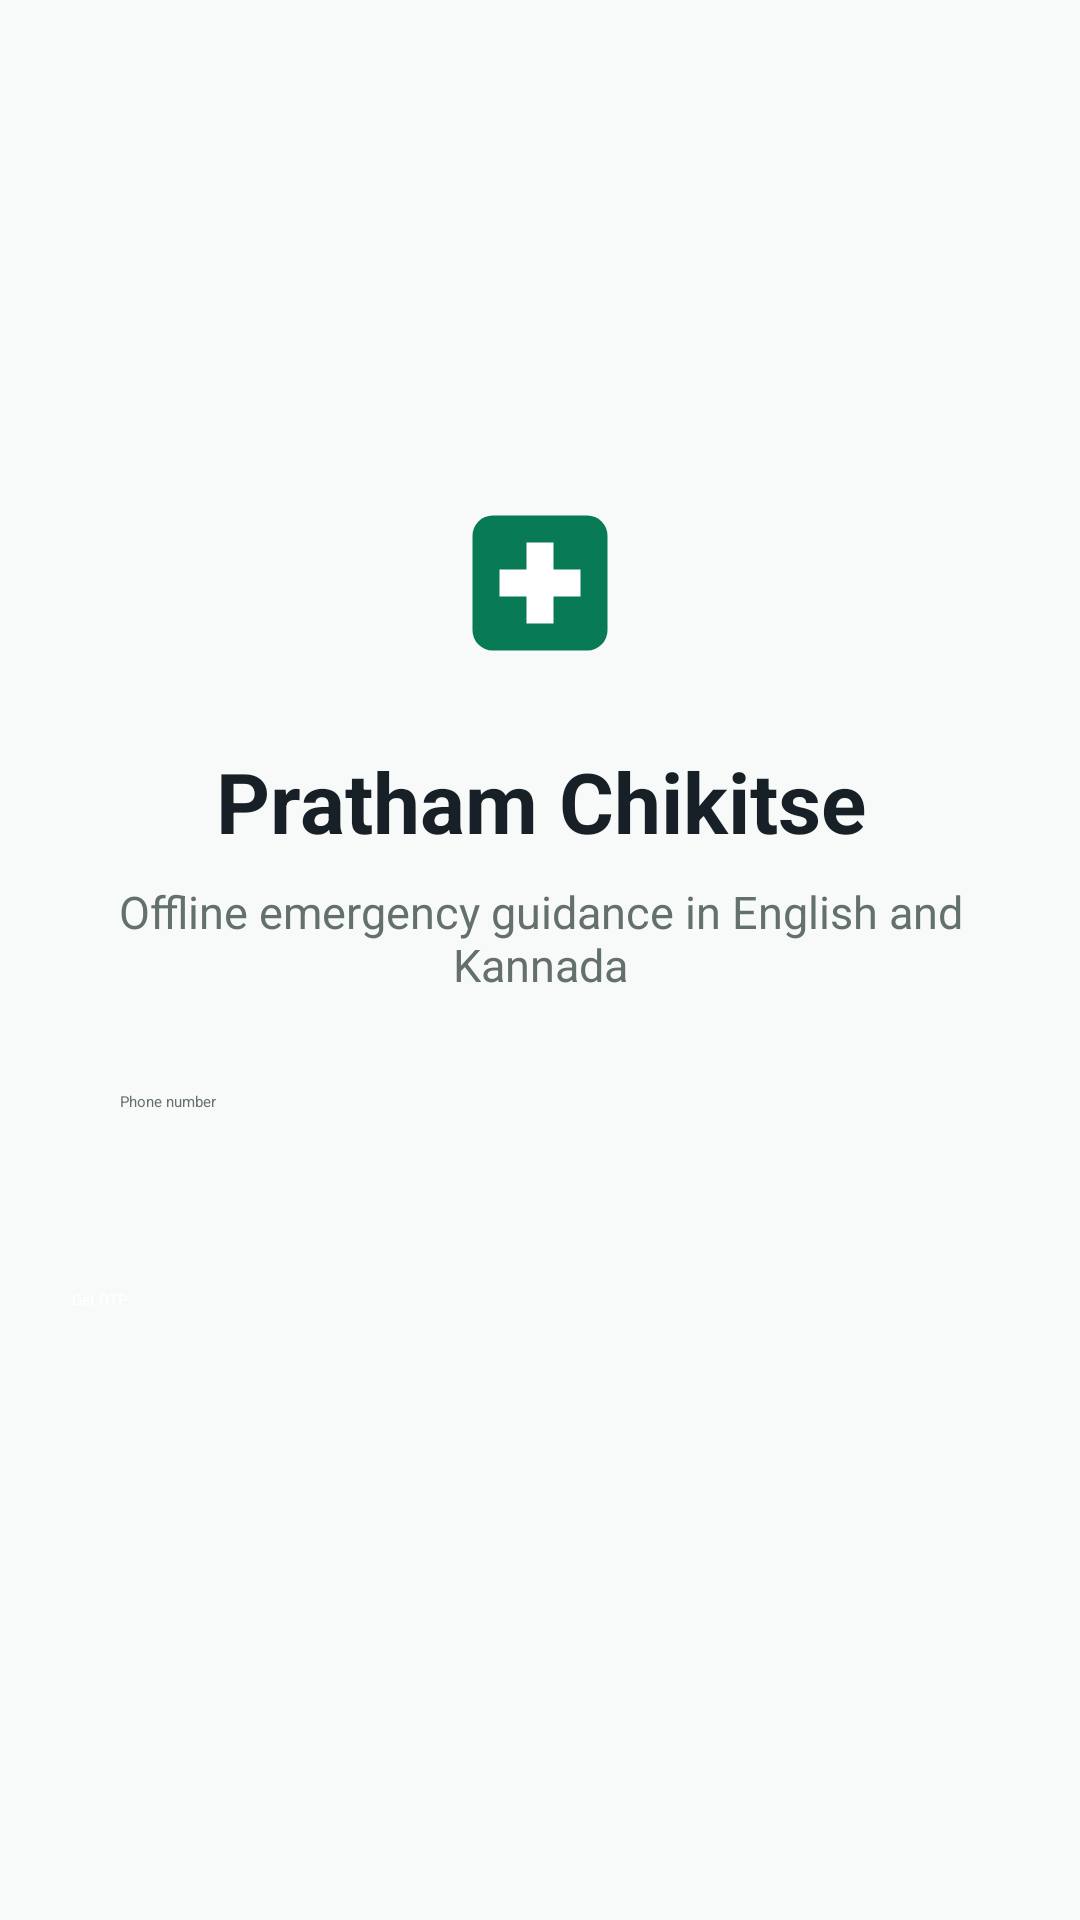

Icons on this 1080 × 1920 Android screen, each with its box as (x1, y1, x2, y2):
first aid: (472, 515, 608, 651)
